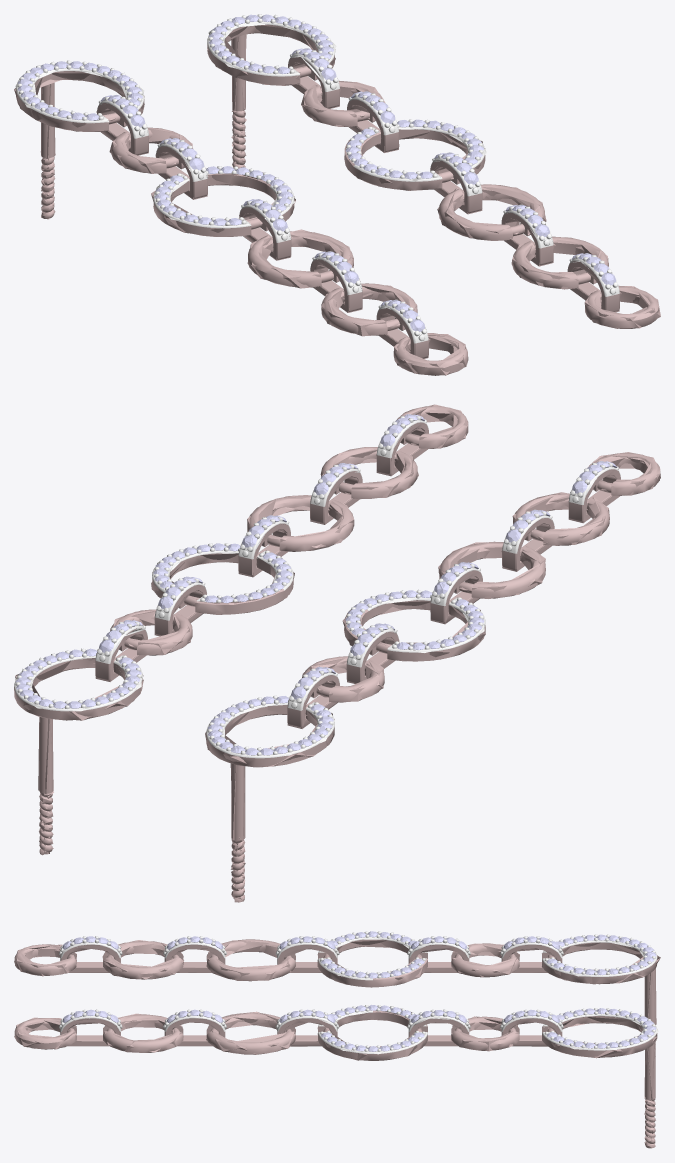
3 views of the same model, one above another, from view 1: azimuth 30°, elevation 25°; view 2: azimuth 150°, elevation 25°; view 3: azimuth 270°, elevation 25° (orthographic). The views are drawn at different scales.
Parts seen in each view (by area): view 1: highPolyMesh, lowPolyMesh; view 2: highPolyMesh, lowPolyMesh; view 3: highPolyMesh, lowPolyMesh.
Part boxes in pixels (<box>): highPolyMesh: <box>16,14,659,375</box>; lowPolyMesh: <box>14,14,660,375</box>; highPolyMesh: <box>14,406,660,902</box>; lowPolyMesh: <box>15,404,660,901</box>; highPolyMesh: <box>14,931,657,1148</box>; lowPolyMesh: <box>14,931,660,1148</box>.
Size of the model in its own units: 0.0296 by 0.0154 by 0.0666.
